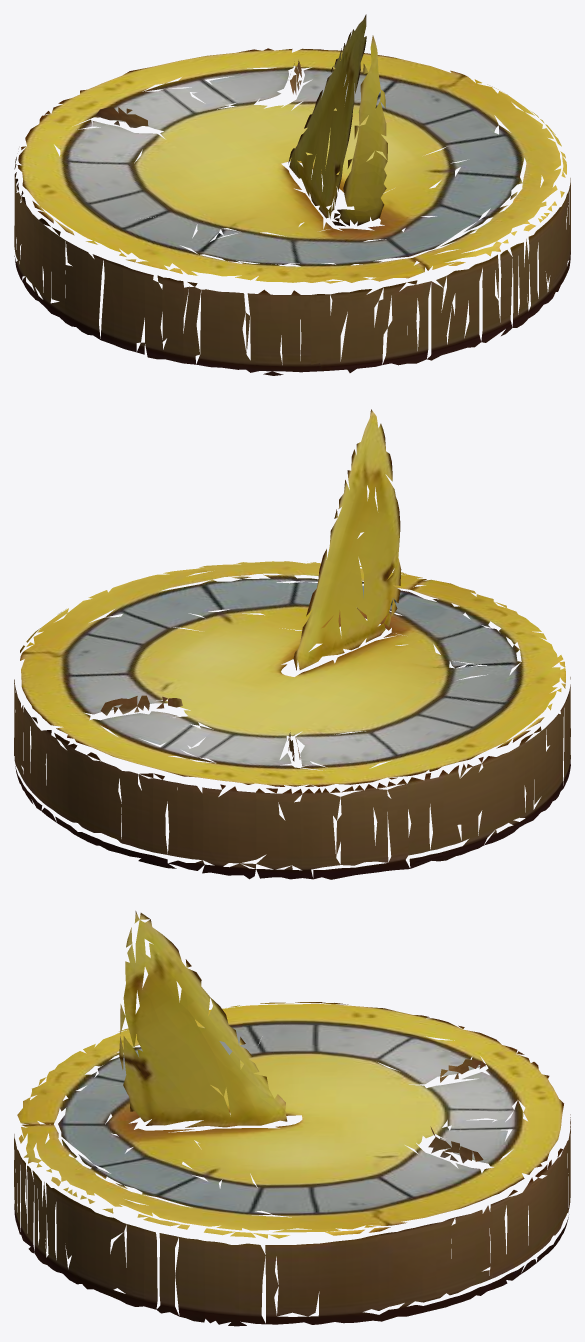
File: sundial.glb
3 renders of one model, top to bottom at view 1: azimuth 30°, elevation 25°; view 2: azimuth 150°, elevation 25°; view 3: azimuth 270°, elevation 25°, orthographic.
Visible parts, largest first — view 1: world.001; view 2: world.001; view 3: world.001.
Part boxes in pixels (x1,y1,x2,y2): world.001: [14, 14, 570, 375]; world.001: [14, 409, 570, 879]; world.001: [14, 911, 570, 1326].
Bounding box in the file's own units: 0.9993 × 0.603 × 0.9975.
1 material, 1 textured.
